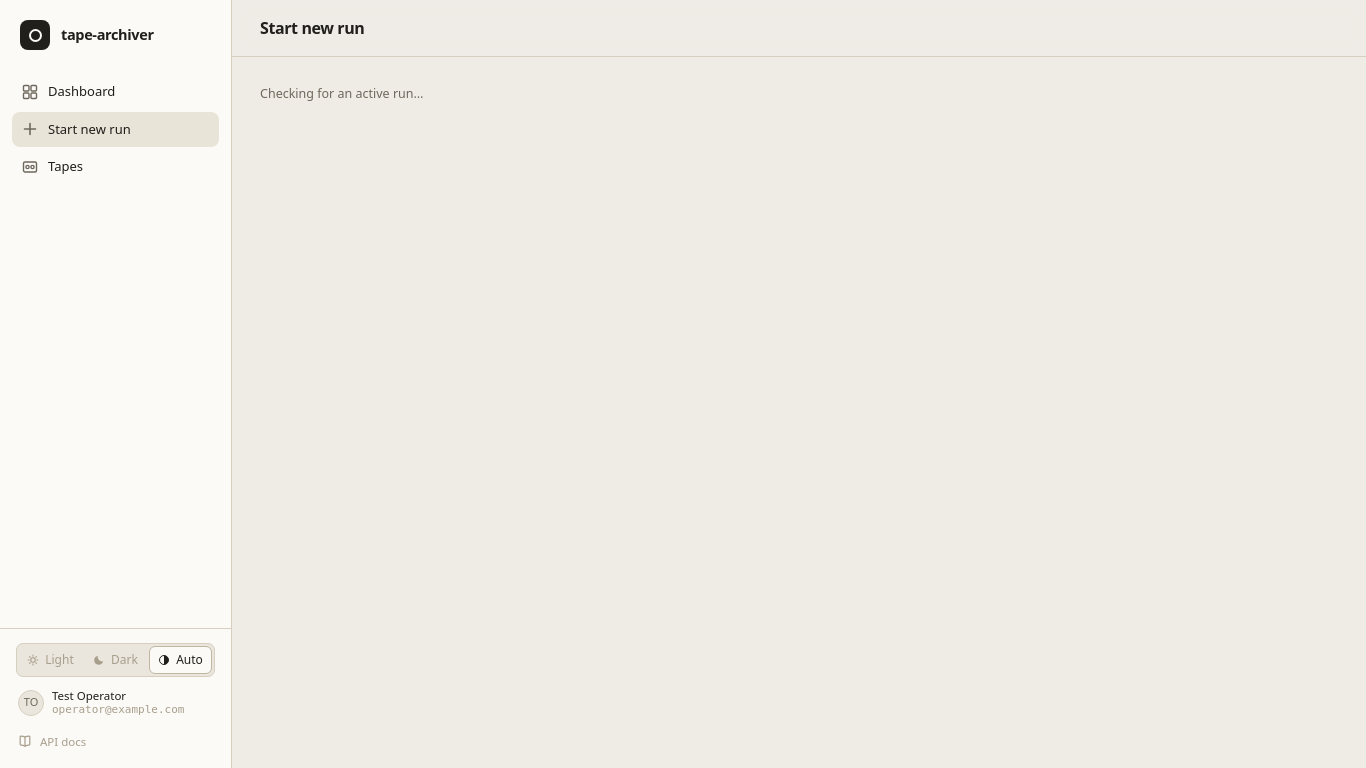
Test case: App shell (authenticated) › navigates back to the dashboard (with the embedded runs table) via the sidebar
expect the navigation bar named "Main" is shown: met, box [0,68,231,188]
Click the link "Dashboard": [69, 91] box [22,82,115,100]
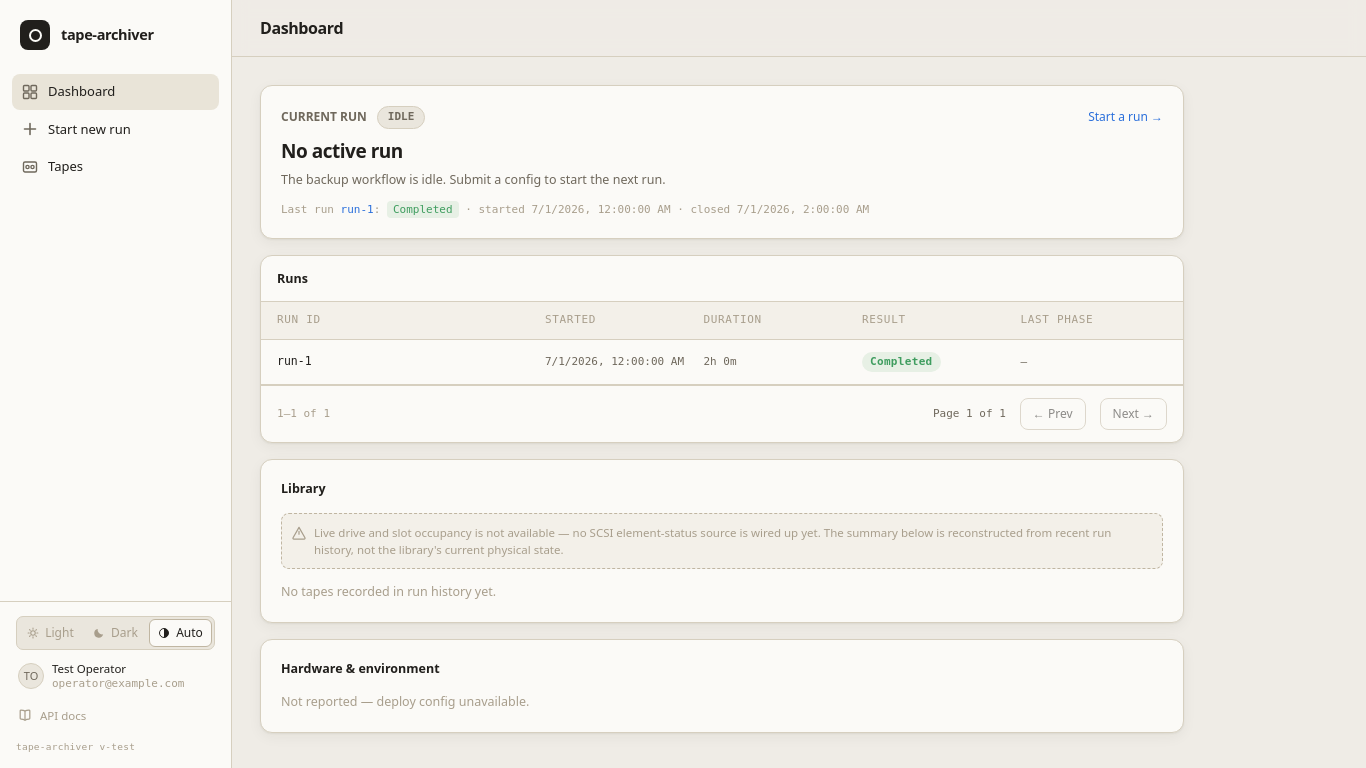
expect the link "run-1" is shown: met, box [261,340,1183,385]
